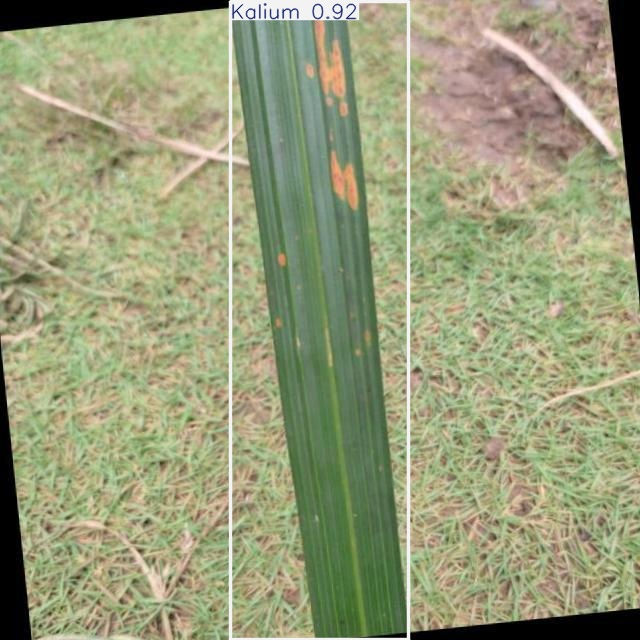Kalium: (231, 1, 408, 639)
